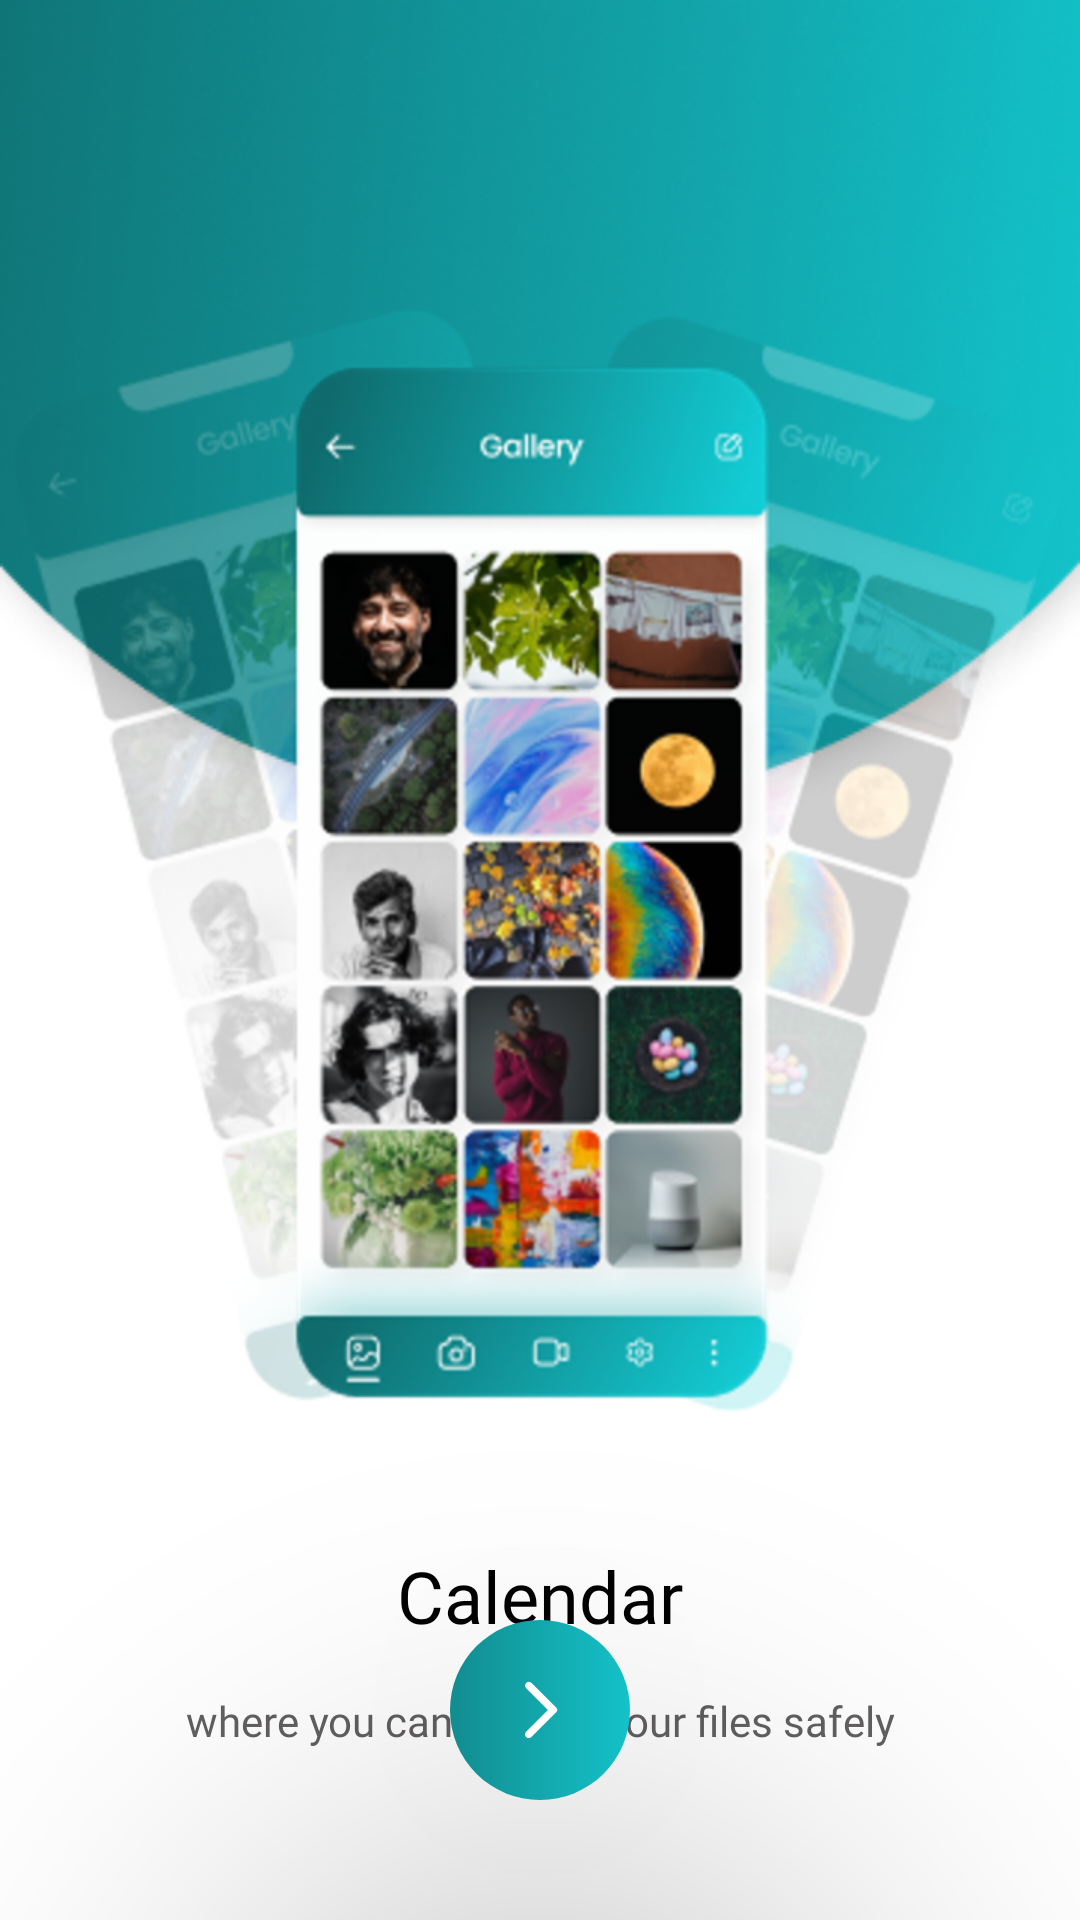

Named icons in this screenshot (1080x1920) and their centers, point (x, y):
arrow: point (540, 1710)
